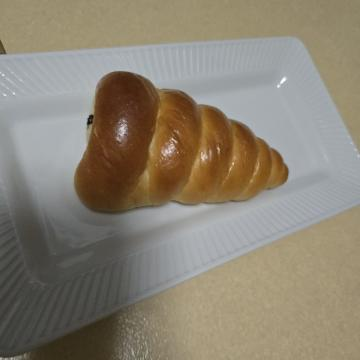cream horn: (66, 57, 238, 296)
